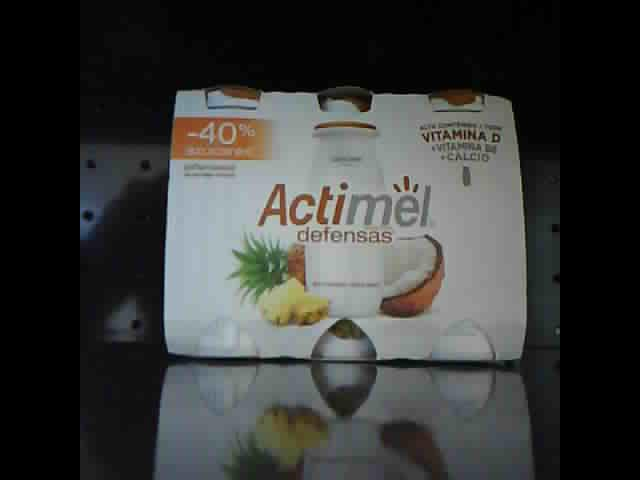actimel: (161, 84, 530, 364)
